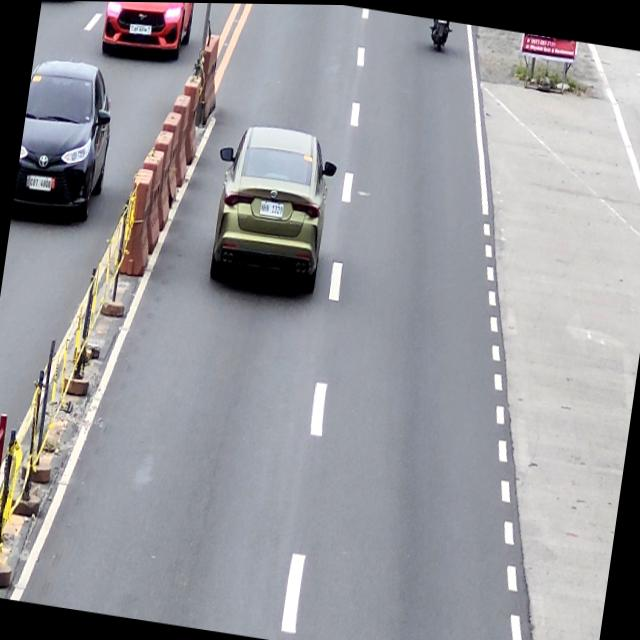Car: (202, 118, 340, 299)
License-Plate: (258, 198, 284, 217)
